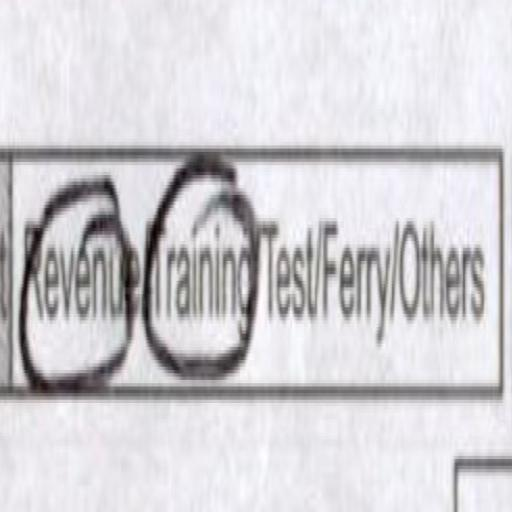check: (17, 116, 140, 479), (147, 115, 256, 512)
